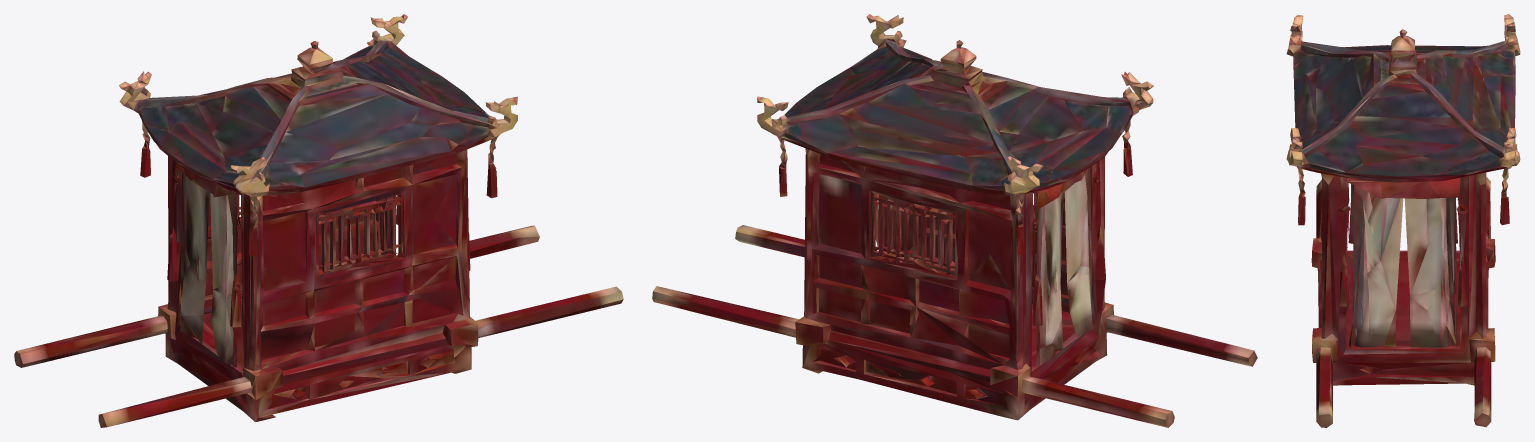
File: gama.glb
3 renders of one model, left to right at view 1: azimuth 30°, elevation 25°; view 2: azimuth 150°, elevation 25°; view 3: azimuth 270°, elevation 25°, orthographic. The views are drawn at different scales.
Size of the model in its own units: 1.9 by 1.15 by 0.789.
1 material, 1 textured.
